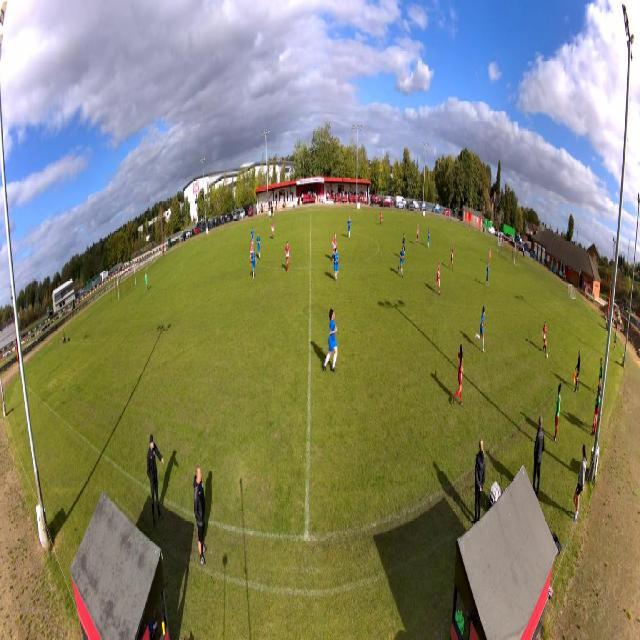ball: (546, 353, 549, 359)
player: (323, 308, 338, 374), (453, 344, 464, 408), (475, 306, 486, 355), (433, 259, 441, 295), (333, 248, 340, 282), (398, 246, 405, 277), (250, 249, 257, 280), (285, 241, 291, 273), (542, 322, 548, 353), (448, 243, 454, 271), (484, 263, 490, 289), (256, 232, 261, 260), (332, 233, 337, 259), (347, 218, 352, 239), (416, 223, 420, 247), (402, 233, 406, 255), (426, 228, 430, 249), (251, 228, 255, 249), (250, 238, 253, 264), (271, 221, 275, 240), (145, 272, 149, 291), (379, 210, 383, 227), (489, 247, 492, 266)
